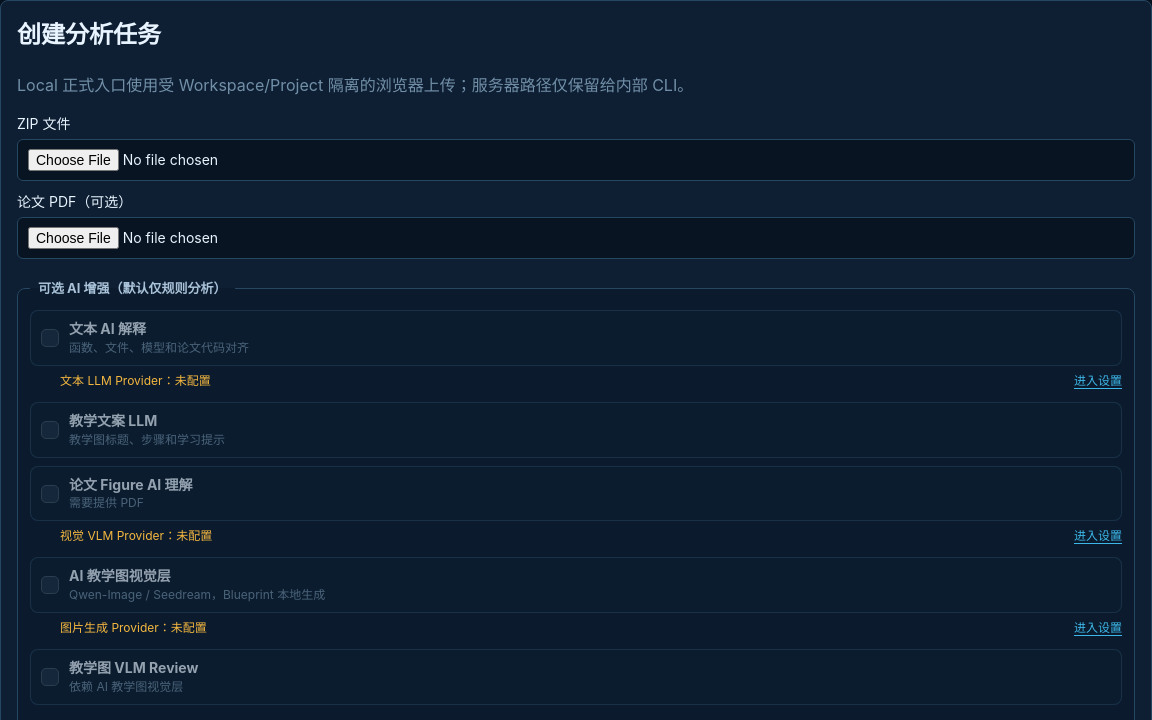
it: TaskForm updates provider readiness after settings change without refresh
The width and height of the screenshot is (1152, 720).
Expected: the checkbox labelled "文本 AI 解释 函数、文件、模型和论文代码对齐" is disabled, [41,329,59,347]
Expected: the text "文本 LLM Provider：未配置" is shown, [60,372,211,390]
What coordinates should you click on to do the following:
click the button "进入设置" in the row of "文本 LLM Provider"
I would click on:
 (1098, 381)
Its box is [1074,372,1122,390].
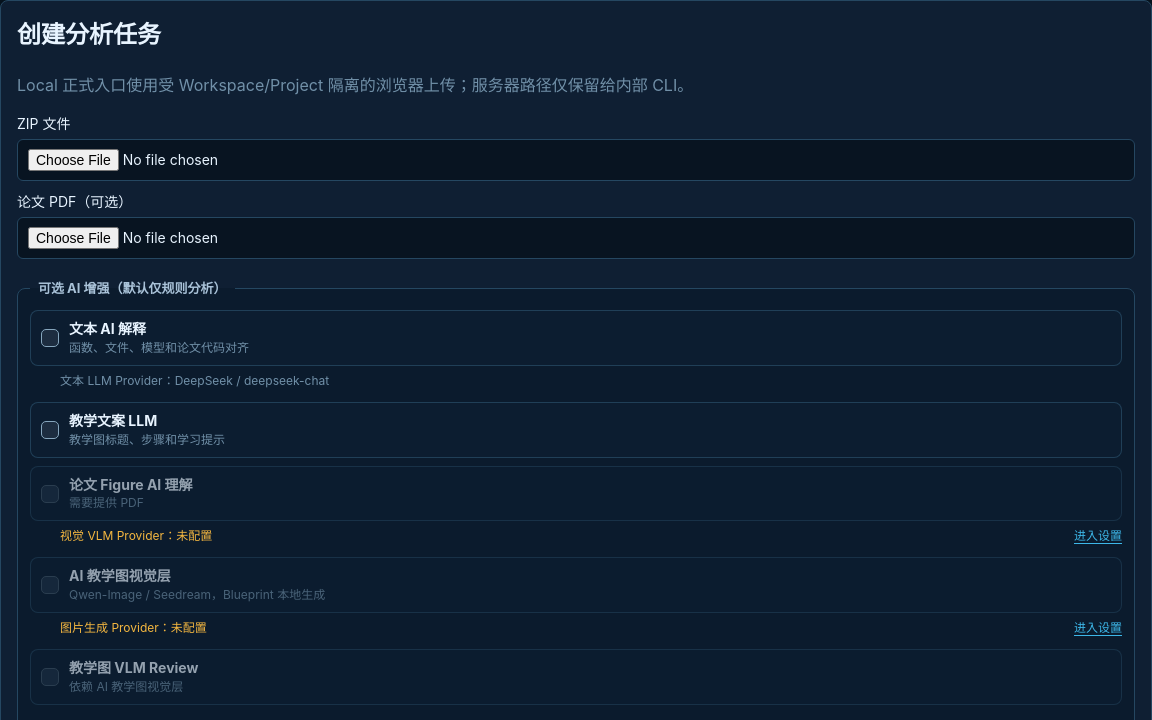
Expected: the checkbox labelled "文本 AI 解释 函数、文件、模型和论文代码对齐" is enabled, [41,329,59,347]
Expected: the text "文本 LLM Provider：DeepSeek / deepseek-chat" is shown, [60,372,329,390]
